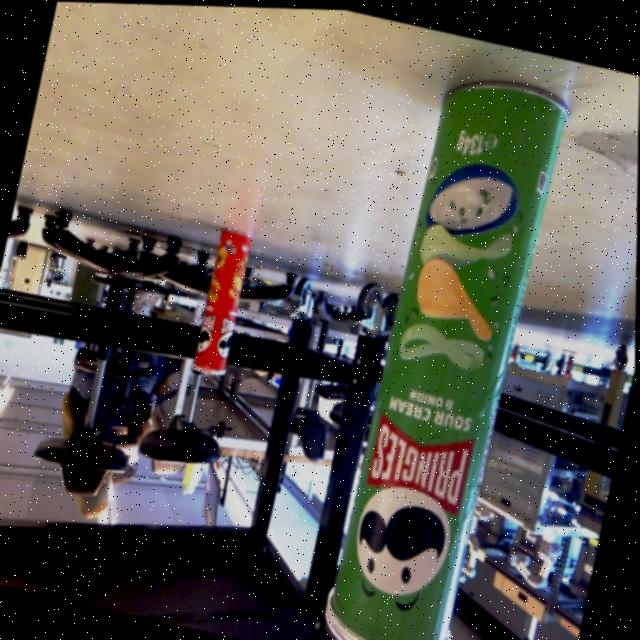greenpringles: (290, 21, 588, 640)
redpringles: (168, 218, 262, 387)
